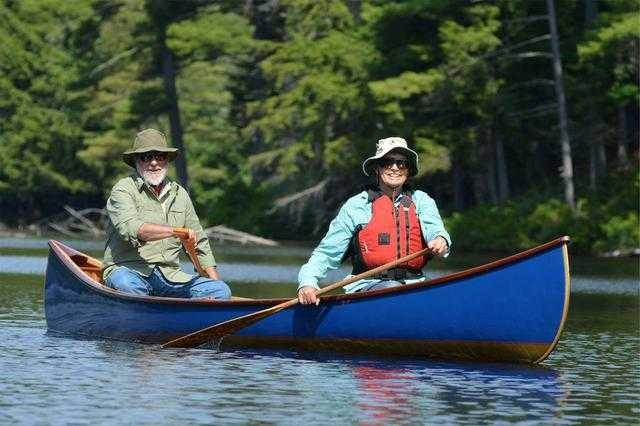kayak: (42, 231, 573, 359)
